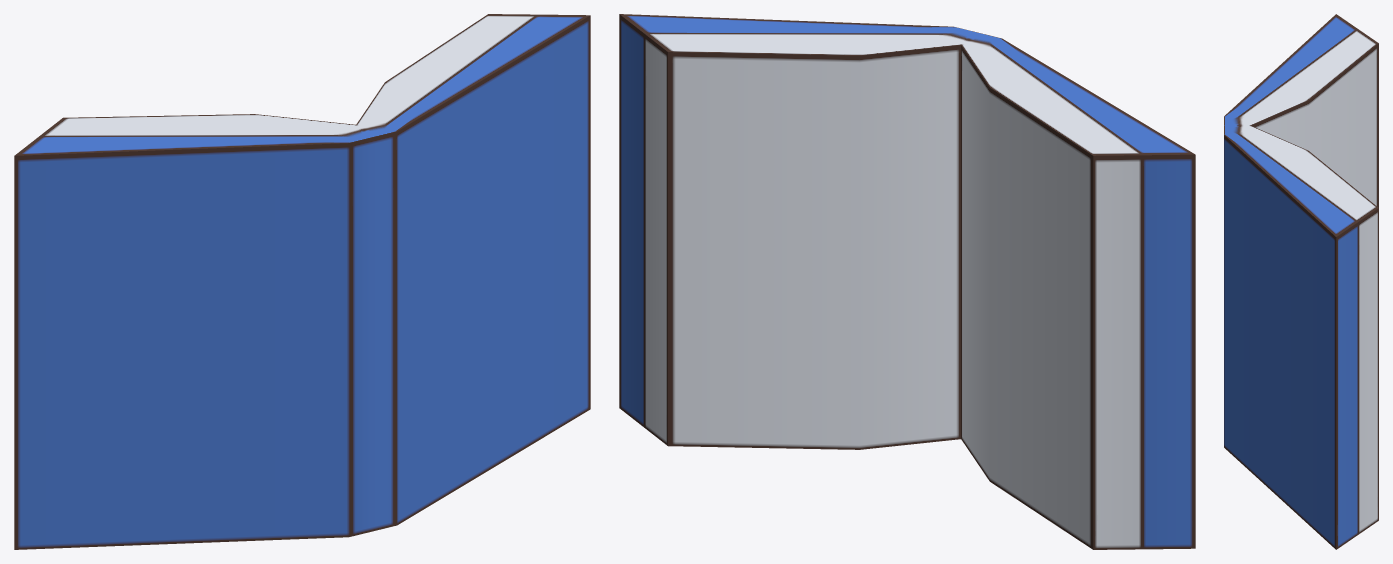
File: Book.fbx
3 views of the same model, side by side, from view 1: azimuth 30°, elevation 25°; view 2: azimuth 150°, elevation 25°; view 3: azimuth 270°, elevation 25° (orthographic). The views are drawn at different scales.
Visible parts, largest first — view 1: Book10; view 2: Book10; view 3: Book10.
Boxes of the visible parts, x1,y1,x2,y2 form: Book10: (14, 14, 590, 549); Book10: (619, 14, 1195, 549); Book10: (1224, 14, 1378, 549).
Bounding box in the file's own units: 67.18 × 43.89 × 19.68.
1 material, 1 textured.
